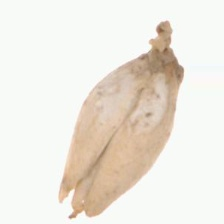L1: (144, 21, 184, 81), (57, 185, 95, 220)
L2: (58, 21, 185, 219)
